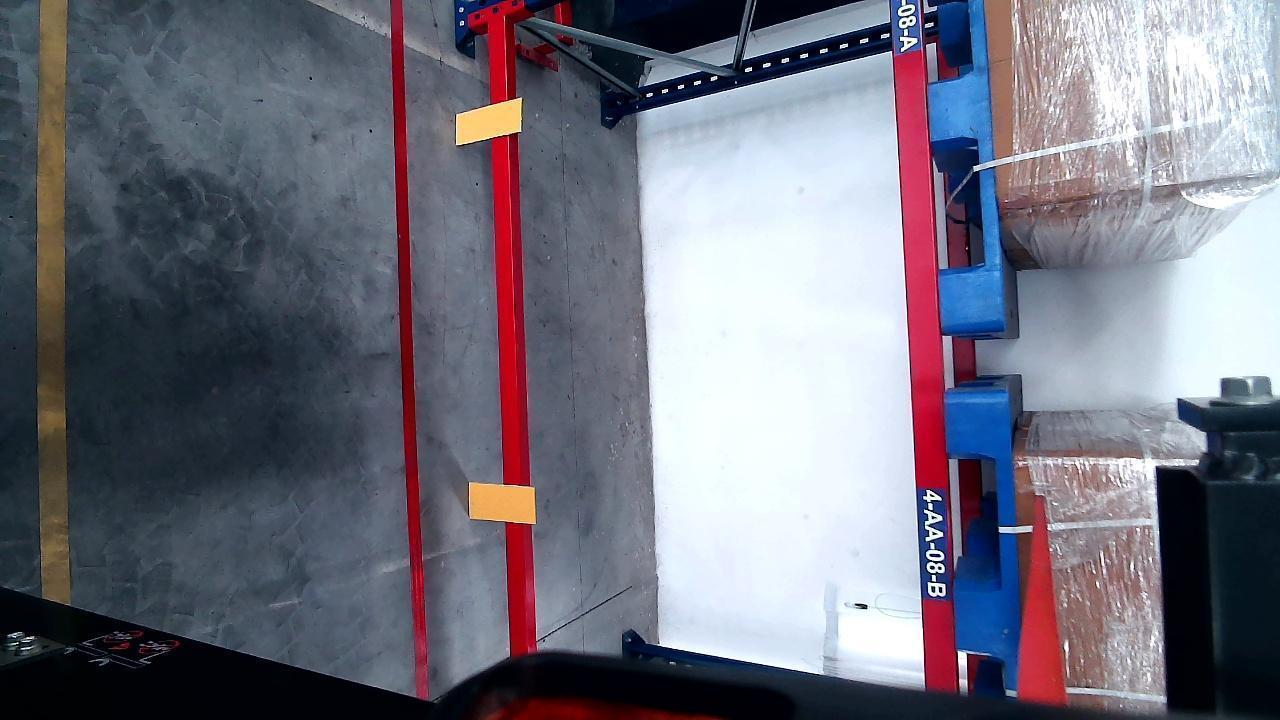red_line: (390, 0, 427, 700)
yellow_line: (36, 2, 69, 602)
